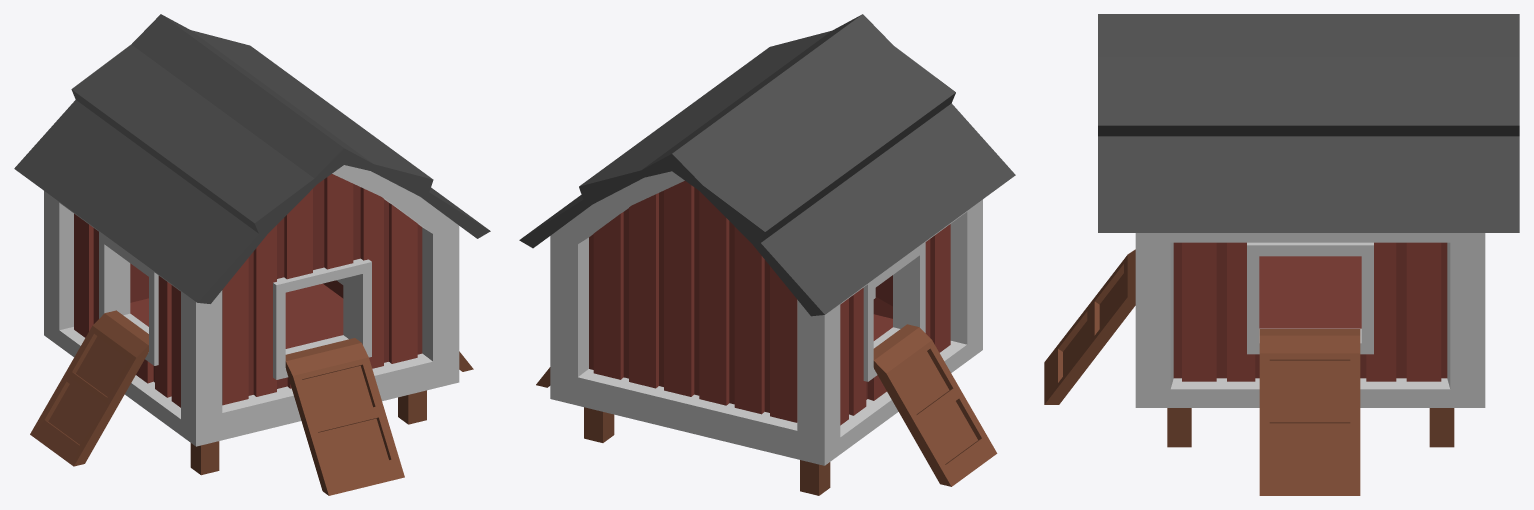
Rendered from chicken-coop.glb.
3 views of the same model, side by side, from view 1: azimuth 30°, elevation 25°; view 2: azimuth 150°, elevation 25°; view 3: azimuth 270°, elevation 25° (orthographic). The views are drawn at different scales.
Visible parts, largest first — view 1: ChickenCoop_Cube.015; view 2: ChickenCoop_Cube.015; view 3: ChickenCoop_Cube.015.
Boxes of the visible parts, x1,y1,x2,y2 form: ChickenCoop_Cube.015: (14, 14, 490, 495); ChickenCoop_Cube.015: (519, 14, 1015, 495); ChickenCoop_Cube.015: (1044, 14, 1519, 495).
Size of the model in its own units: 2.41 by 1.85 by 2.15.
1 material, 1 textured.
